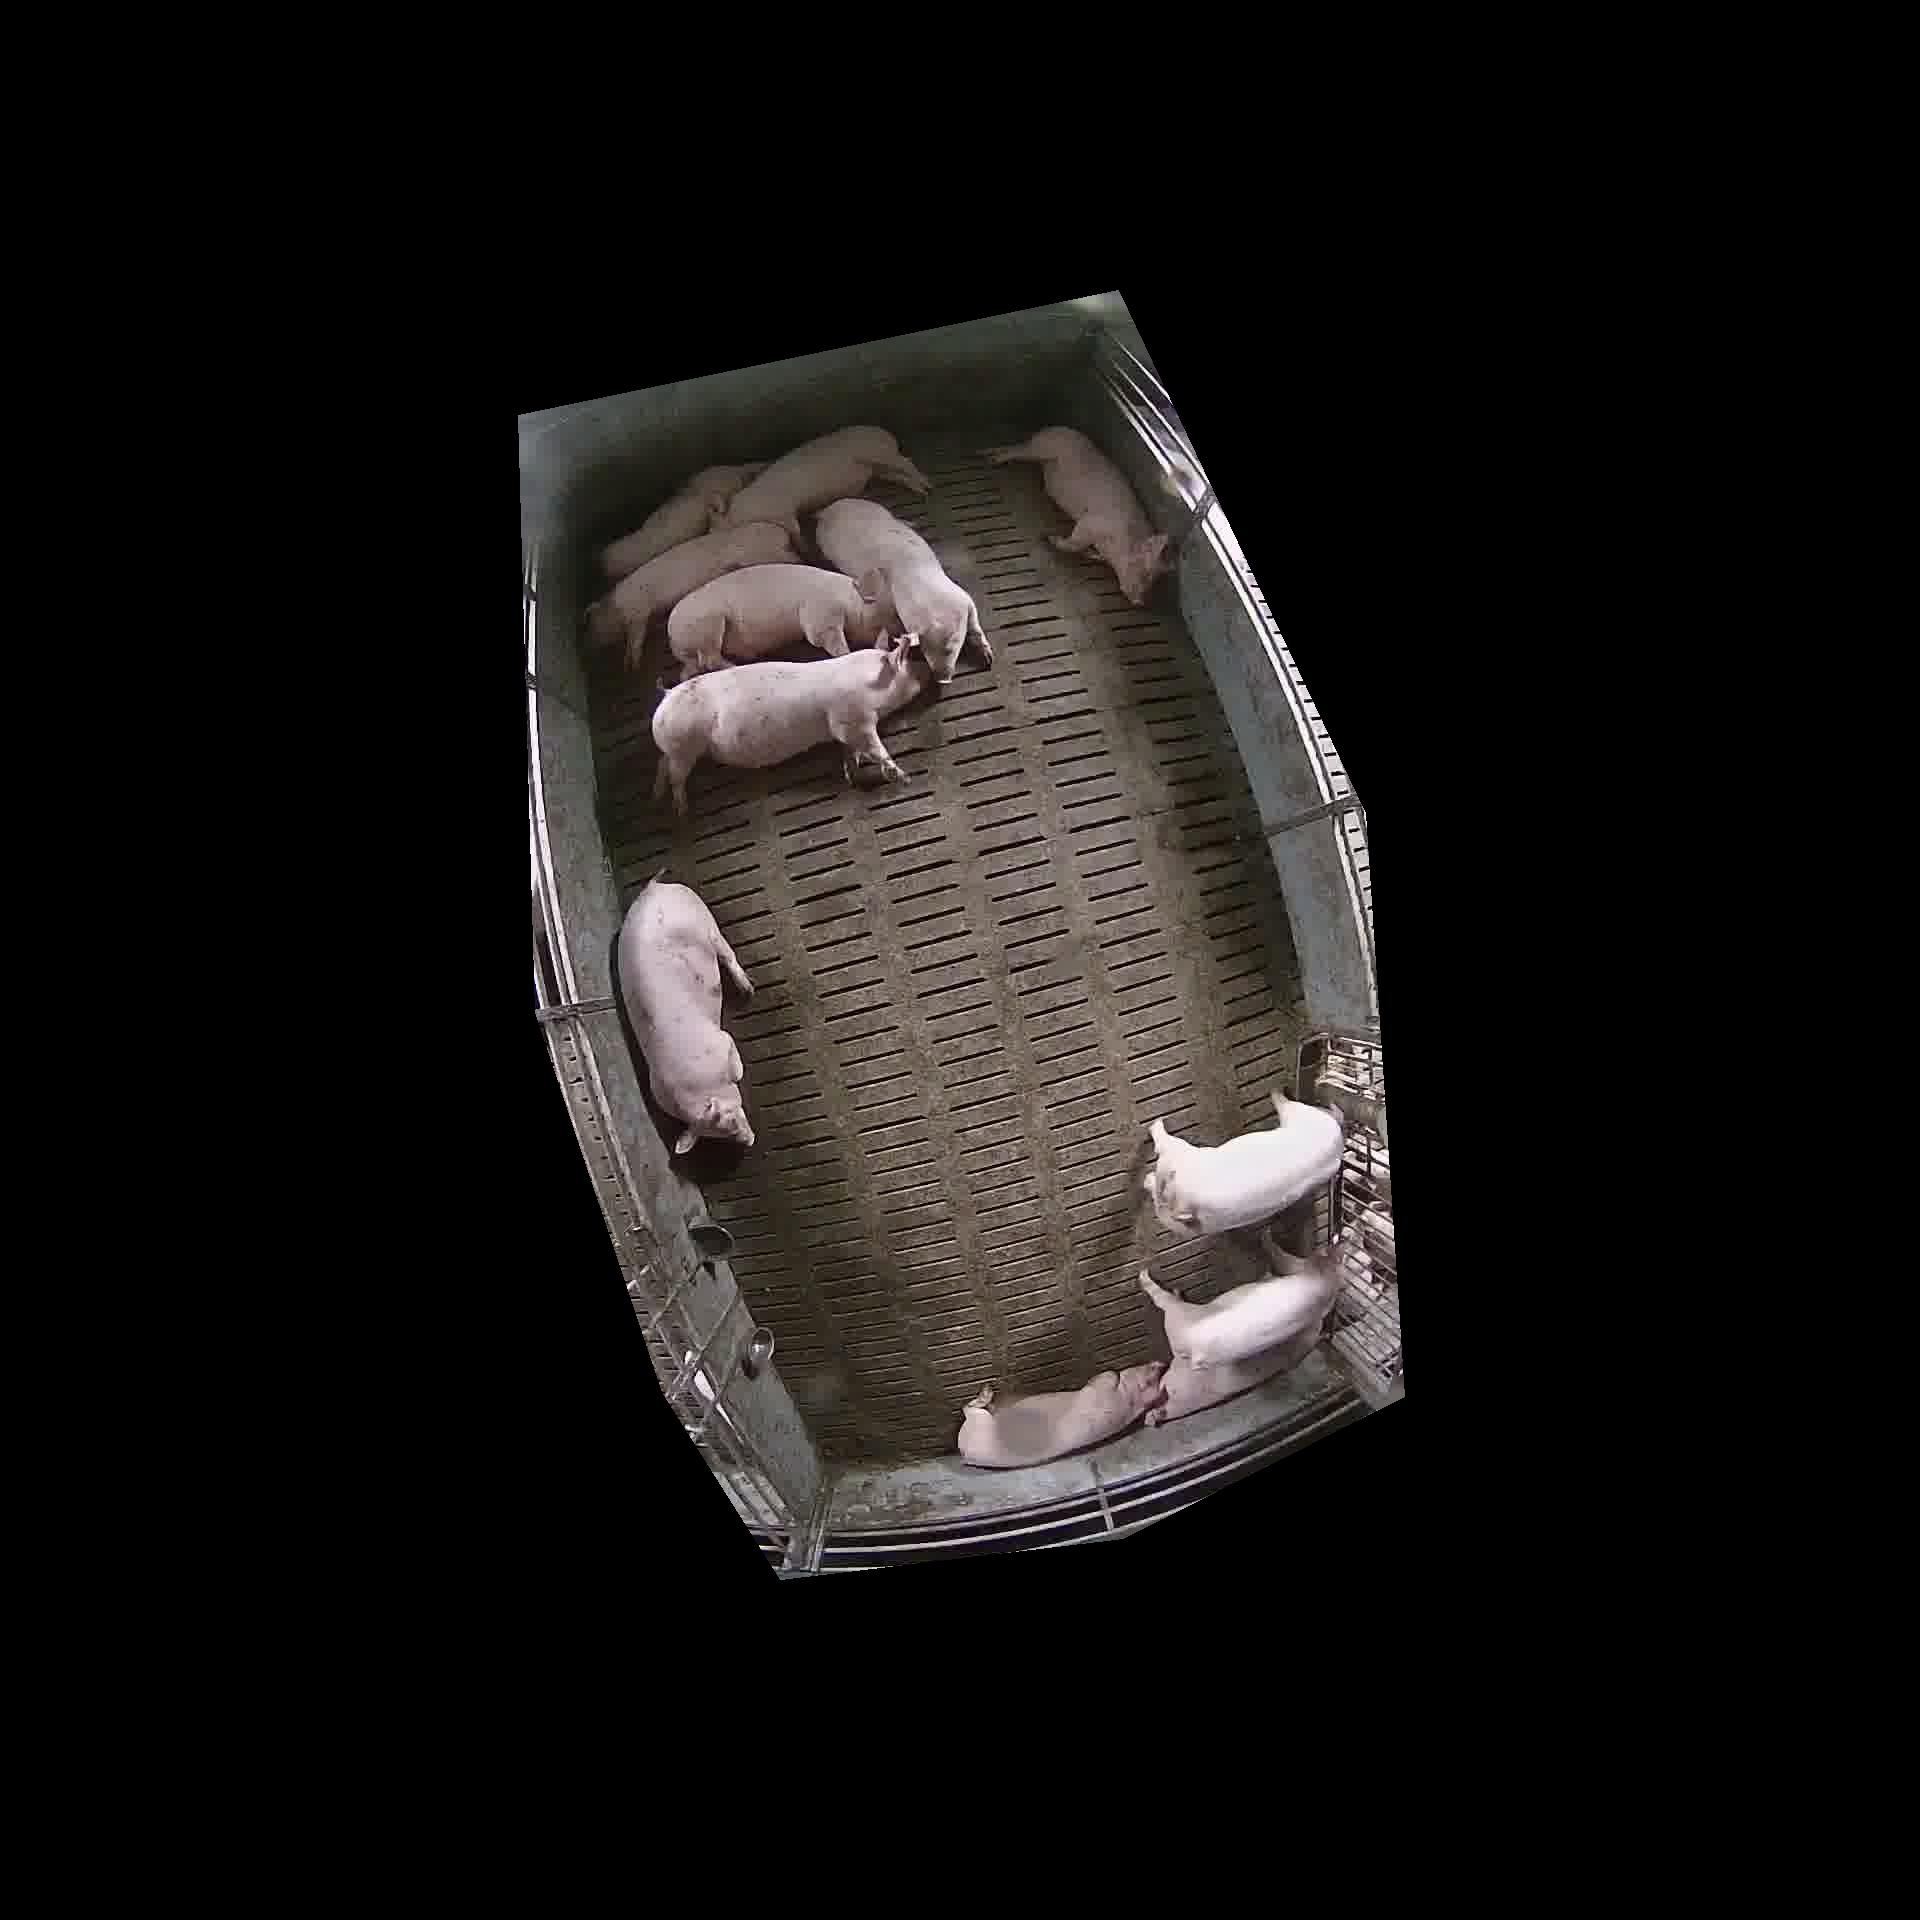pig: (652, 636, 930, 812), (617, 879, 753, 1153), (816, 498, 992, 682), (986, 427, 1167, 605), (587, 522, 796, 666), (1145, 1092, 1343, 1234), (666, 564, 891, 679), (1138, 1238, 1336, 1363), (723, 425, 928, 538), (958, 1363, 1164, 1466), (598, 462, 761, 578), (1148, 1338, 1313, 1421)
